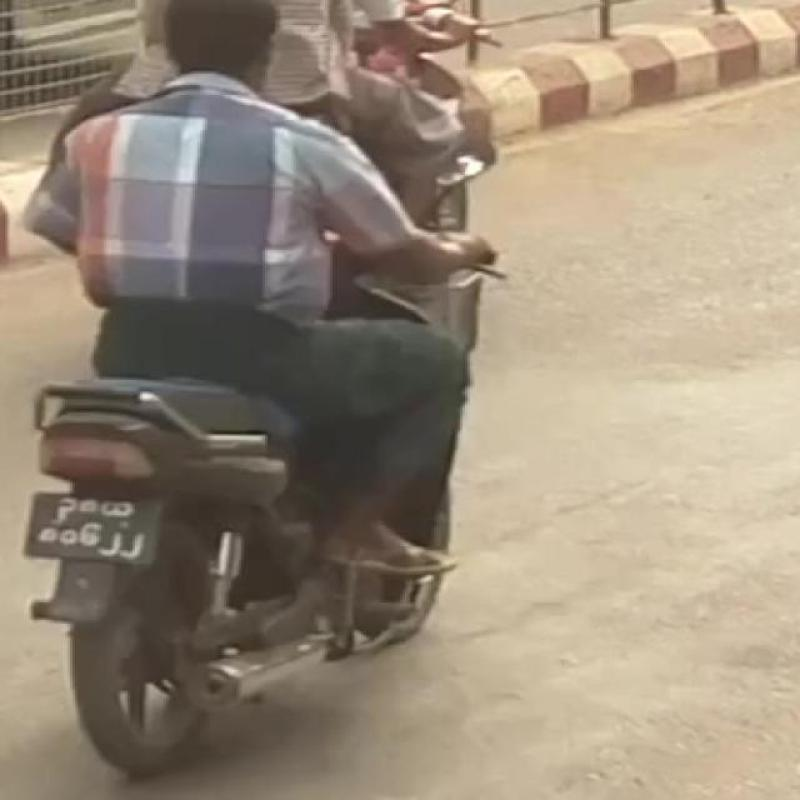nohelmet: (123, 0, 367, 102)
